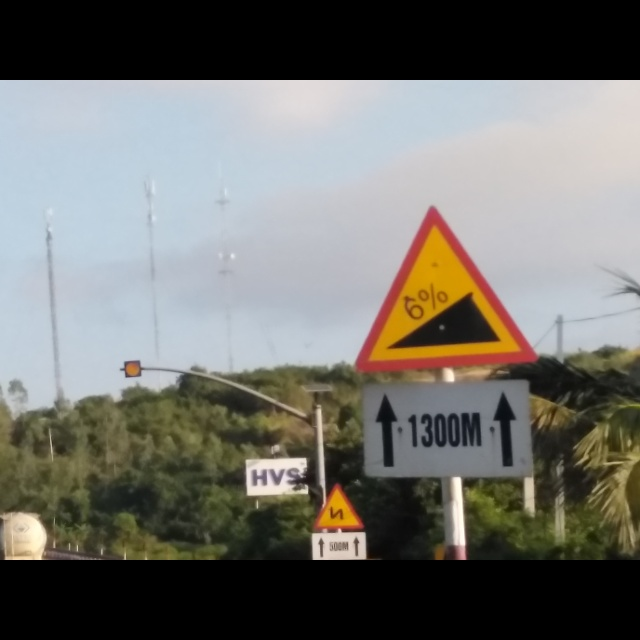Dốc lên nguy hiểm: (351, 200, 537, 373)
Ngoặt nguy hiểm liên tiếp bên phải: (310, 481, 366, 532)
